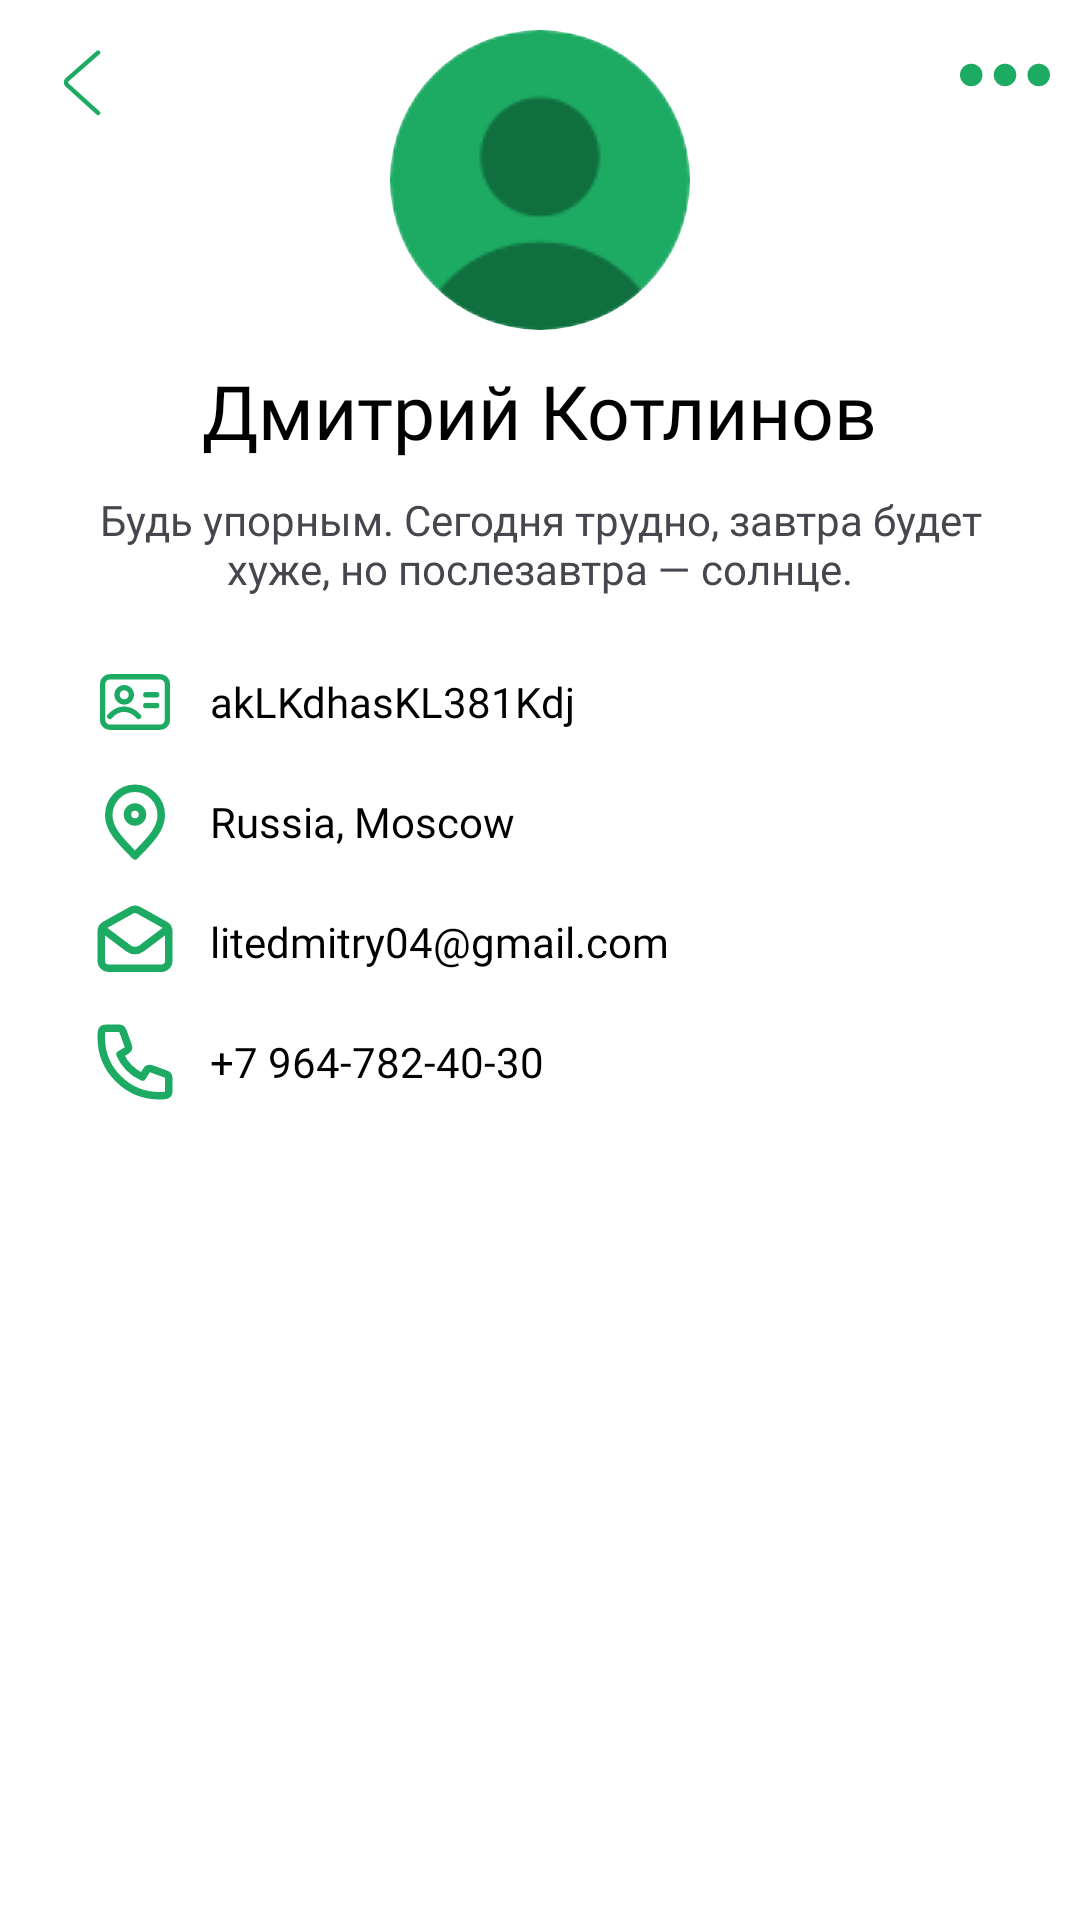

Where to tap for icons on this 1080x1920 app screen, as [x,y]:
back: [82,83]
dots: [1005,75]
email: [135,938]
location: [135,822]
phone: [135,1062]
profile: [540,180]
